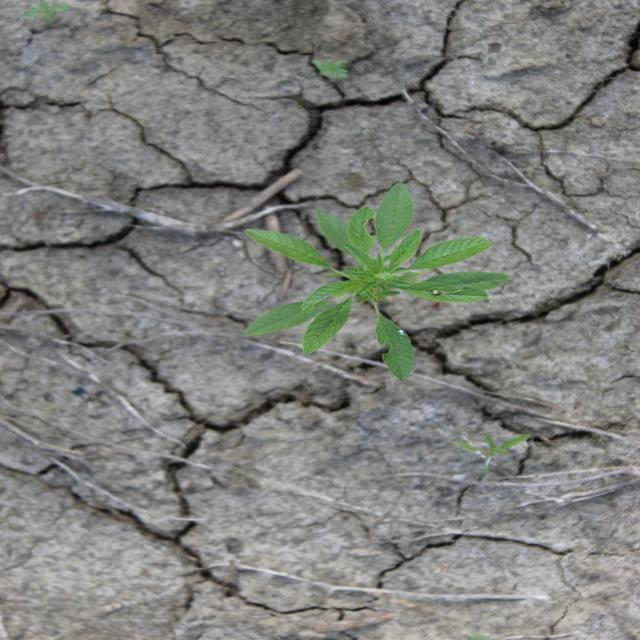Waterhemp: (240, 182, 513, 384)
